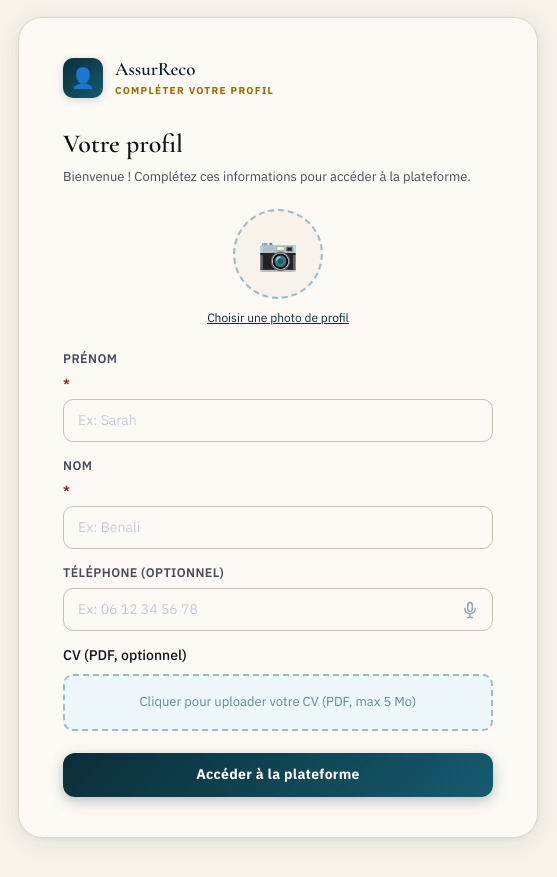
Test: CompleteProfile › handles API error
Type "Sarah" into the field with placeholder "Ex: Sarah" at (278, 421), box x1=63 y1=399 x2=493 y2=442
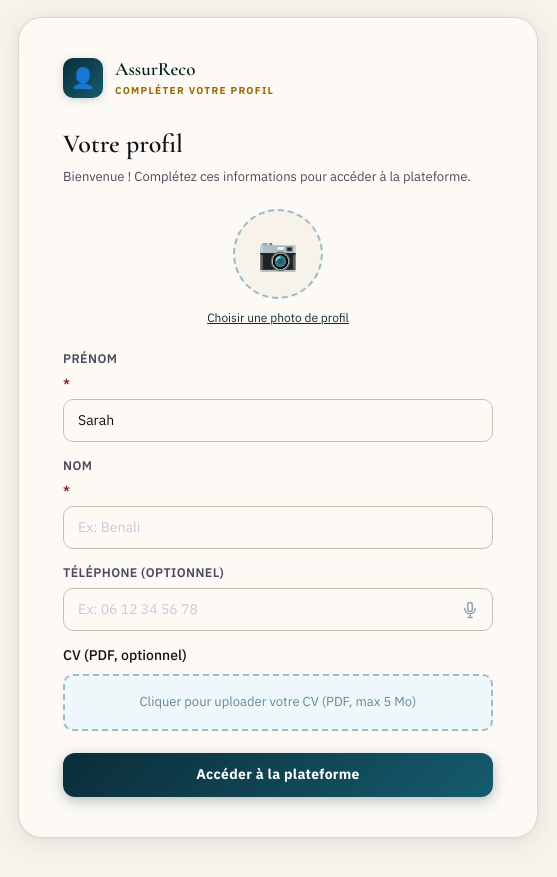
Type "Benali" into the field with placeholder "Ex: Benali" at (278, 528), box x1=63 y1=506 x2=493 y2=549
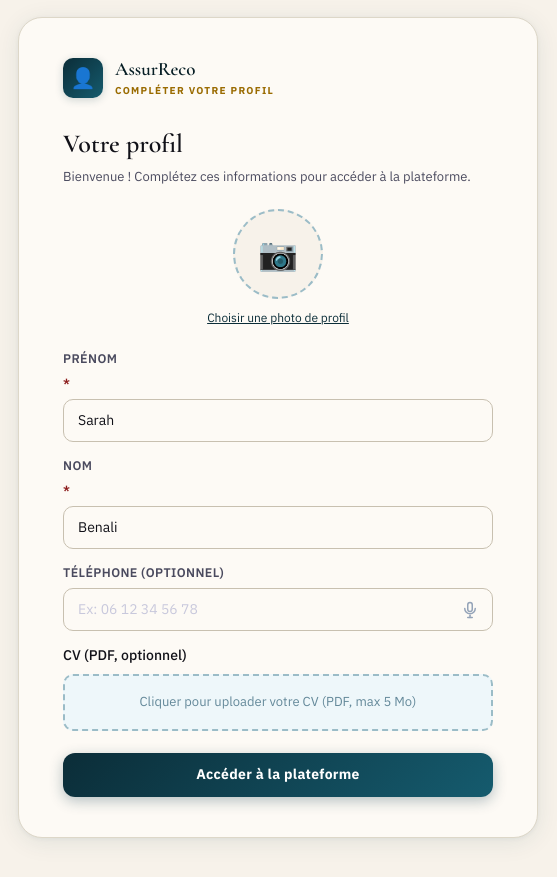
Click the button "Accéder à la plateforme" at (278, 775), box x1=63 y1=753 x2=493 y2=797
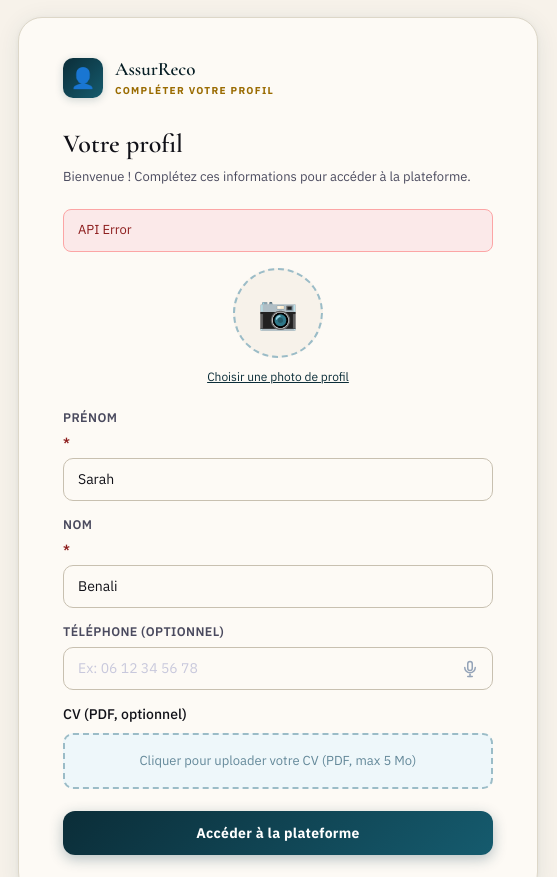
expect the text "API Error" is shown: met, box x1=63 y1=209 x2=493 y2=252
